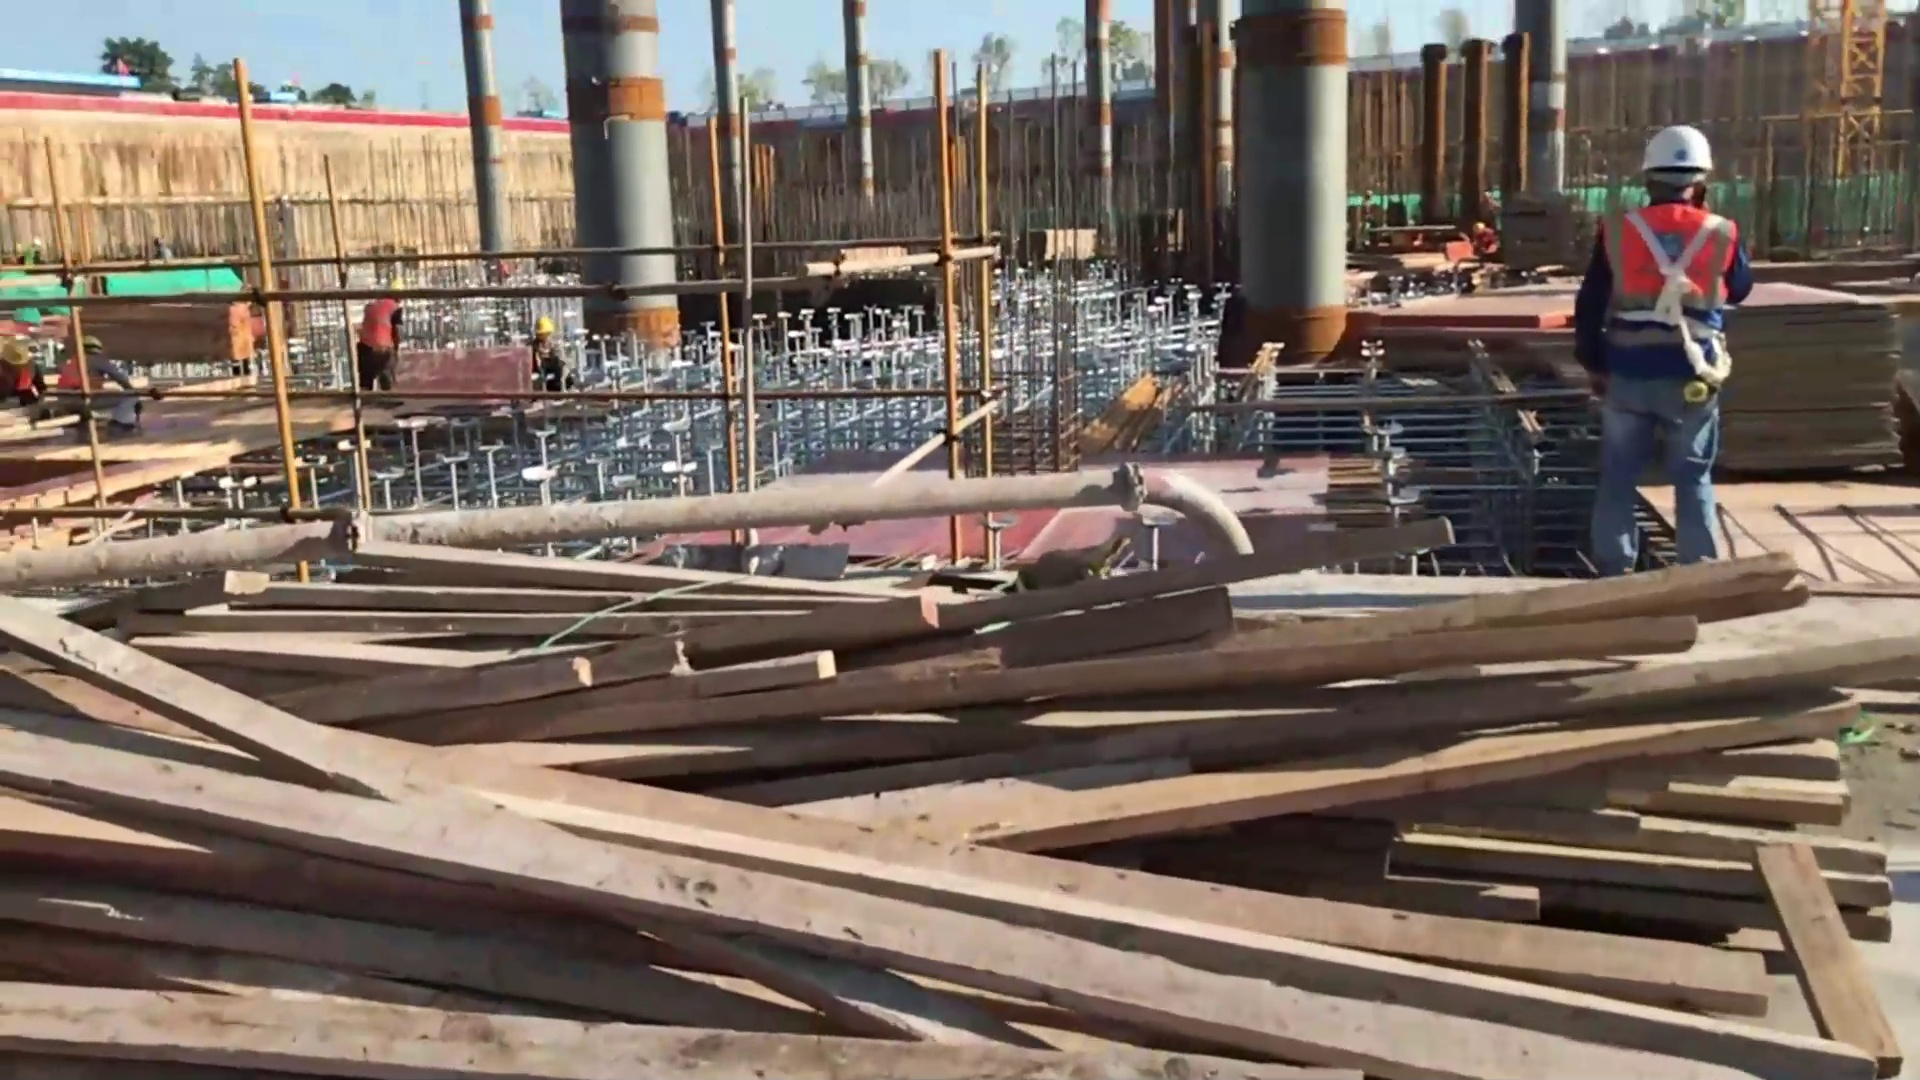board: (1738, 284, 1900, 476)
helmet: (1640, 118, 1709, 181)
person: (1569, 118, 1733, 566), (352, 270, 402, 399), (523, 319, 573, 392)
vest: (1590, 203, 1748, 369)
wood: (29, 526, 1920, 1079)
